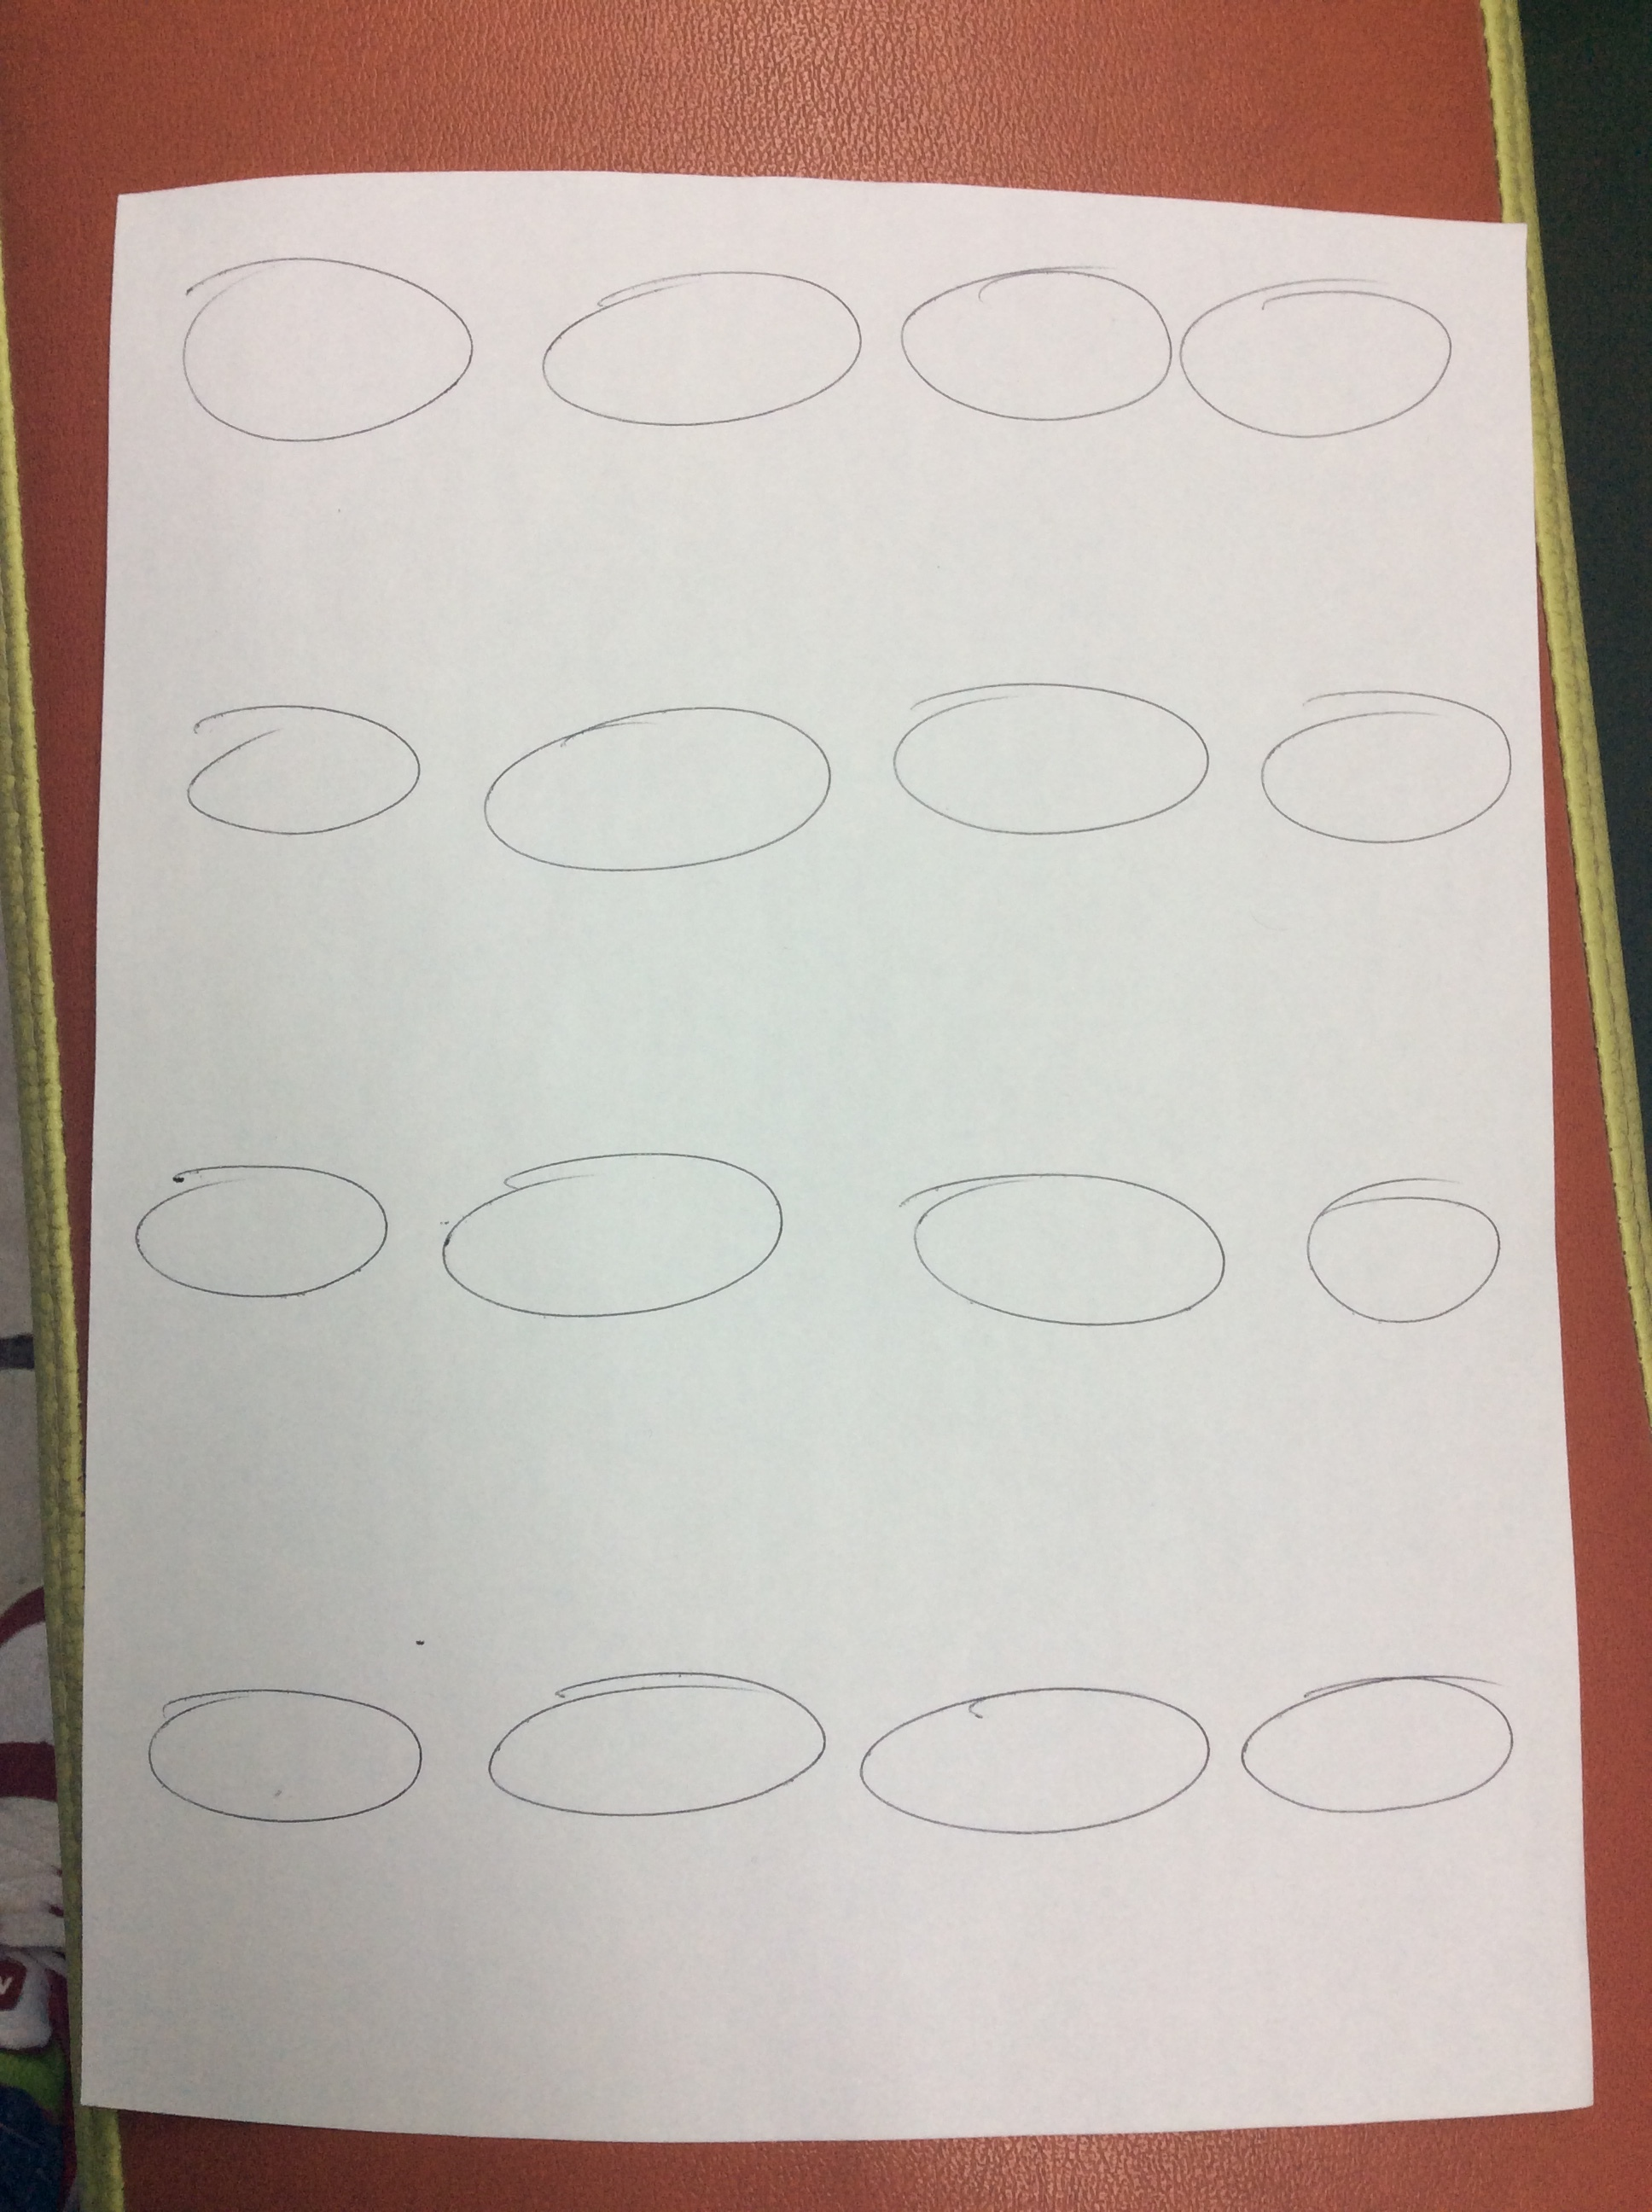start_end: (463, 677, 845, 907), (422, 1126, 807, 1345), (862, 1133, 1234, 1358), (463, 1659, 845, 1853), (849, 1659, 1223, 1856), (153, 243, 482, 461), (517, 250, 873, 451), (876, 652, 1220, 857), (1227, 1648, 1551, 1863), (1244, 632, 1524, 878), (1177, 239, 1470, 474), (882, 243, 1177, 465), (118, 1662, 436, 1867), (115, 1119, 401, 1327), (165, 670, 432, 864), (1275, 1150, 1527, 1351)
